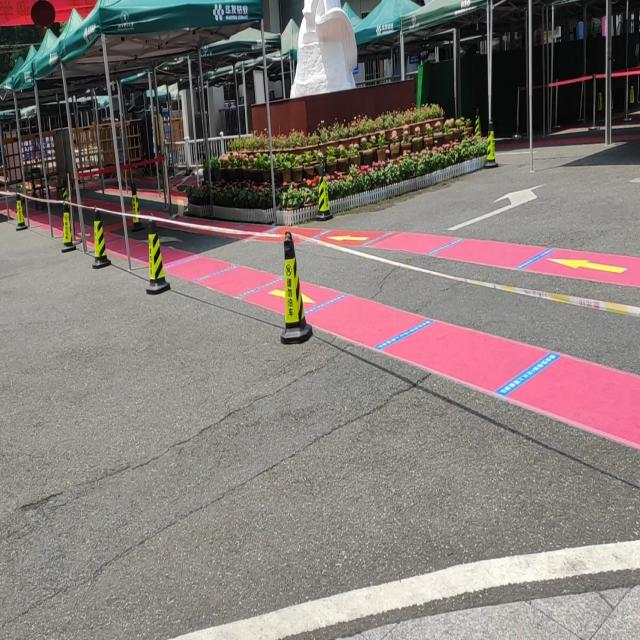reflective_cone: (280, 230, 313, 344), (145, 212, 170, 295), (91, 204, 111, 268), (315, 161, 333, 221), (60, 198, 76, 252), (129, 182, 145, 232), (15, 190, 27, 230)
